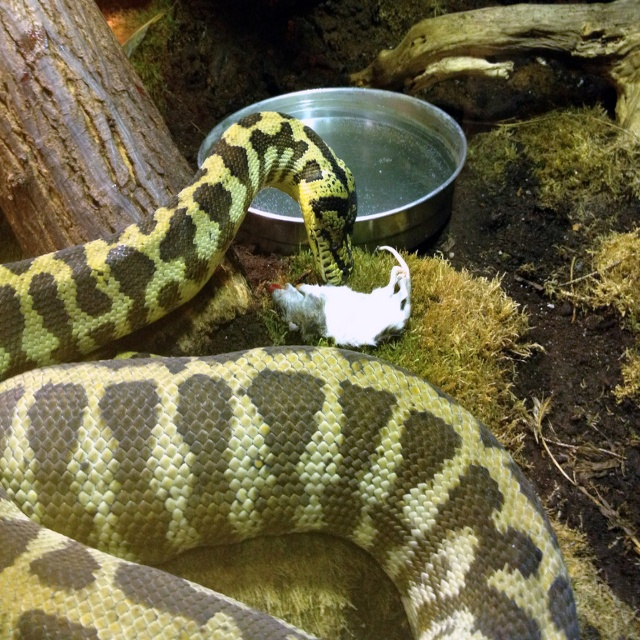Snake: (0, 111, 589, 639), (0, 108, 581, 639)
